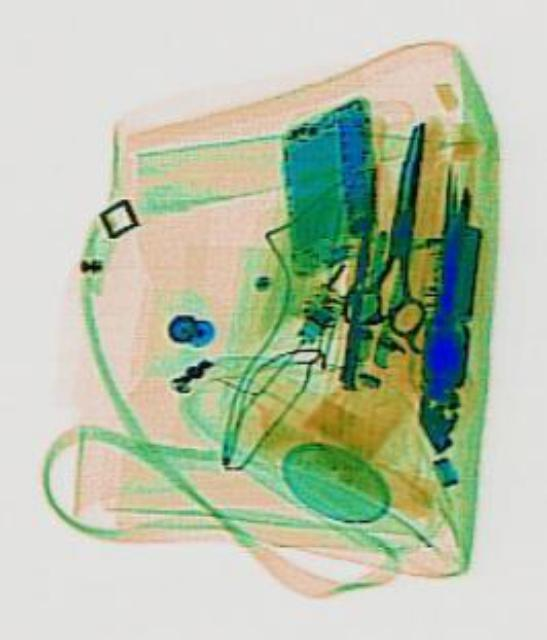Scissors: (333, 110, 460, 344)
